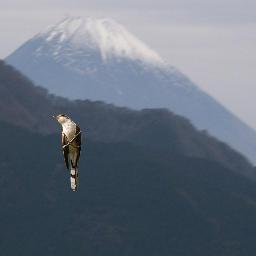Cuckoo: (53, 114, 82, 191)
